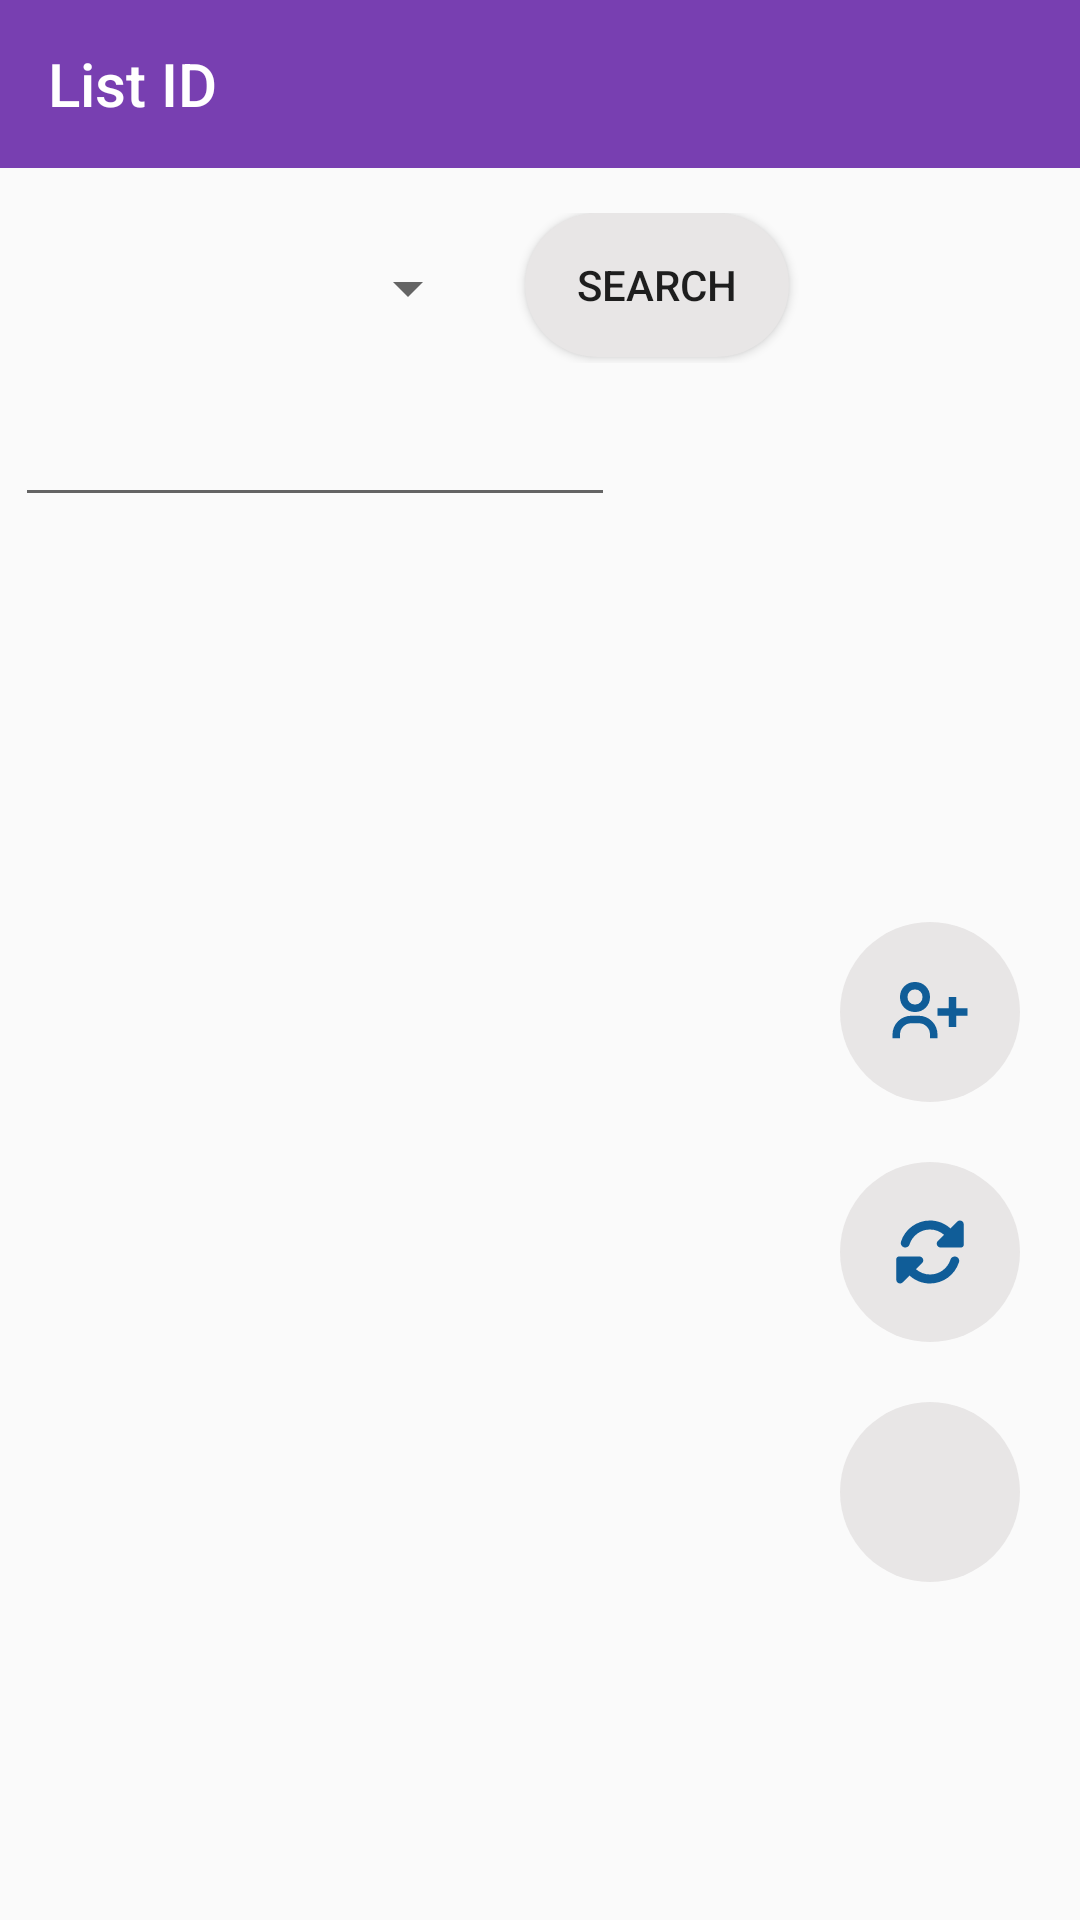

Icon bounding boxes for this 1080×1920 phone screenshot, format (x1, y1, x2, y2):
add person: (840, 922, 1020, 1102)
update: (840, 1162, 1020, 1342)
